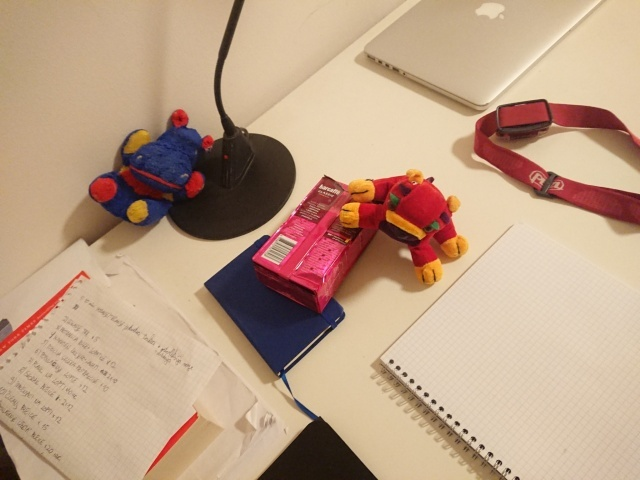Barcaffe Classic Original 225g: (249, 172, 392, 317)
